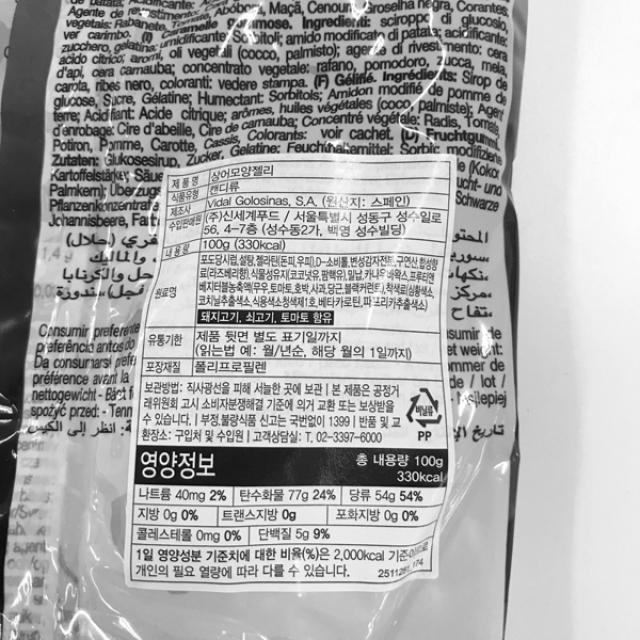Nutrition Label: (126, 437, 454, 585)
